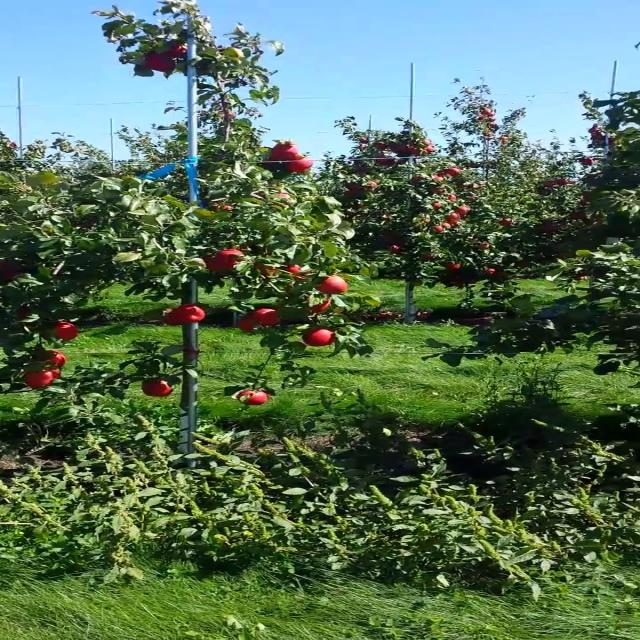apple: (206, 250, 248, 276), (29, 351, 65, 370), (44, 322, 78, 342), (26, 370, 60, 390), (314, 274, 348, 294), (144, 54, 178, 72), (250, 308, 284, 326), (301, 329, 335, 347), (179, 304, 208, 324), (270, 142, 302, 160), (140, 379, 172, 397), (282, 159, 314, 175), (302, 294, 330, 312), (238, 390, 268, 406), (161, 308, 186, 326), (0, 259, 20, 280), (161, 42, 190, 56), (255, 260, 280, 276), (268, 192, 298, 205), (286, 264, 310, 280), (238, 319, 262, 331), (214, 205, 238, 215), (226, 48, 245, 56)
